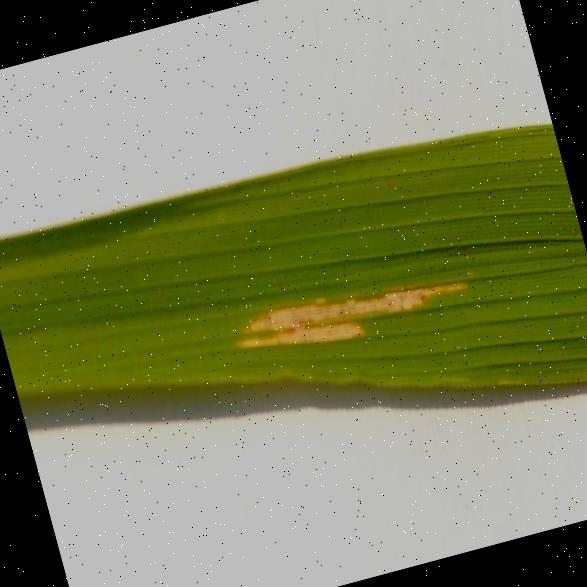Bacteria_Leaf_Blight: (212, 212, 505, 412)
